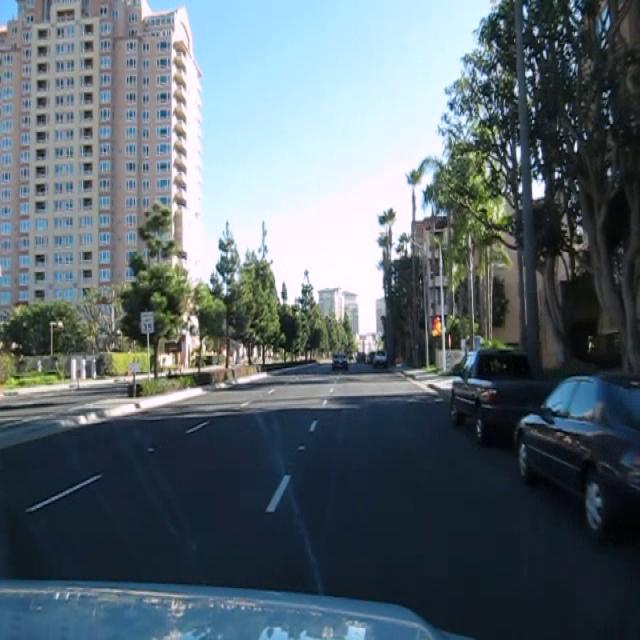speedLimit35: (139, 309, 154, 335)
